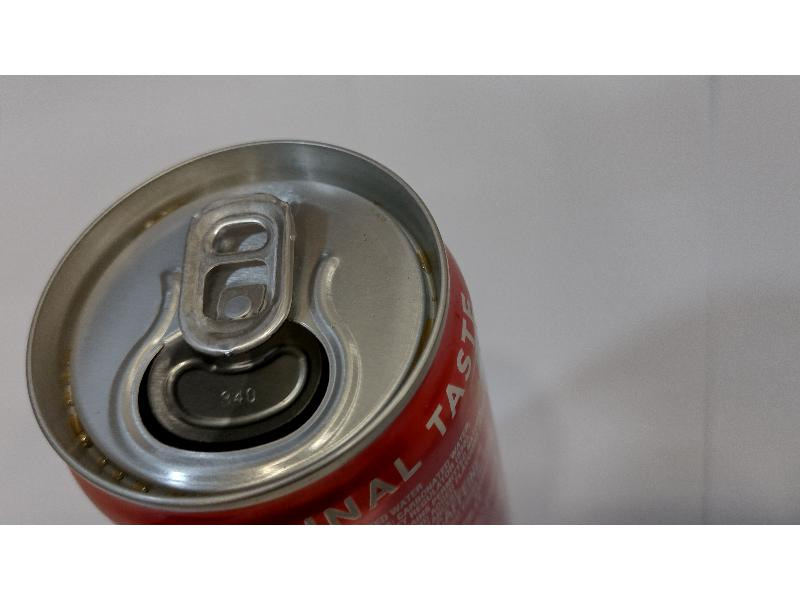can: (20, 135, 523, 523)
